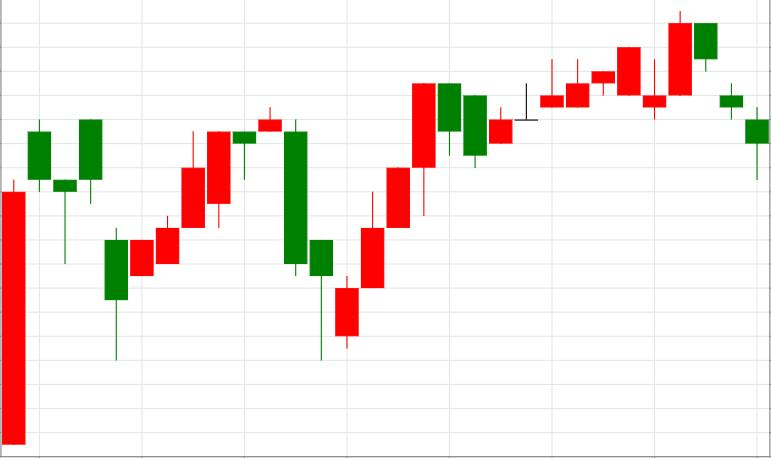three_white_soldiers_rise: (258, 84, 435, 361)
